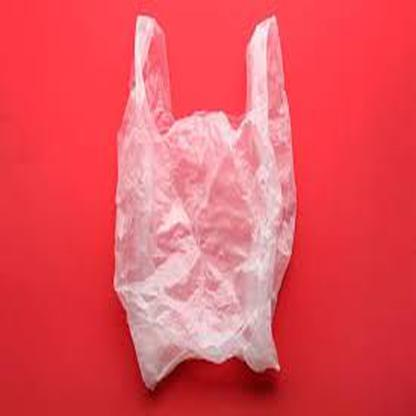plastic bag: (113, 8, 293, 389)
